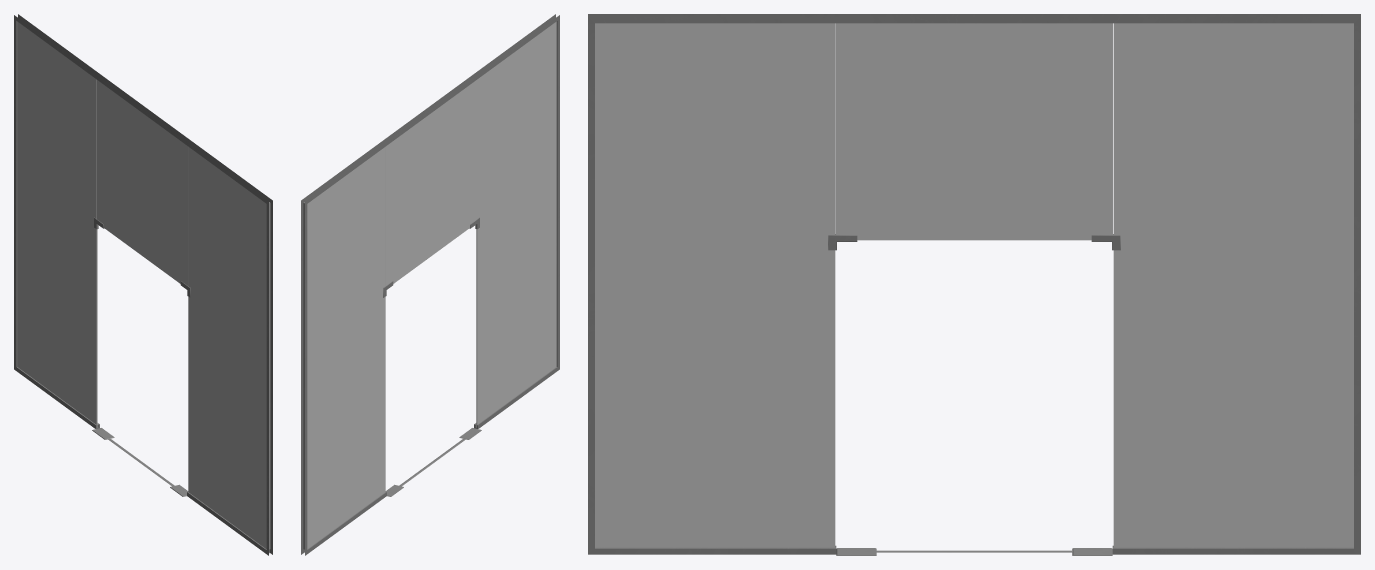
File: SM_StoreFront_Glass_600.fbx
3 renders of one model, left to right at view 1: azimuth 30°, elevation 25°; view 2: azimuth 150°, elevation 25°; view 3: azimuth 270°, elevation 25°, orthographic. The views are drawn at different scales.
Parts seen in each view (by area): view 1: SM_StoreFront_Glass_600_LOD0; view 2: SM_StoreFront_Glass_600_LOD0; view 3: SM_StoreFront_Glass_600_LOD0.
Part boxes in pixels (x1,y1,x2,y2): SM_StoreFront_Glass_600_LOD0: [14, 14, 272, 555]; SM_StoreFront_Glass_600_LOD0: [301, 14, 559, 555]; SM_StoreFront_Glass_600_LOD0: [588, 14, 1360, 555].
Size of the model in its own units: 12.27 by 560 by 430.
